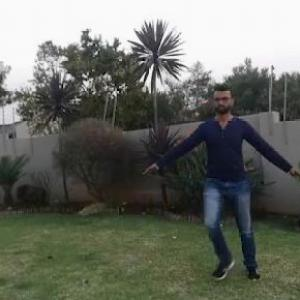land: (148, 88, 282, 253)
